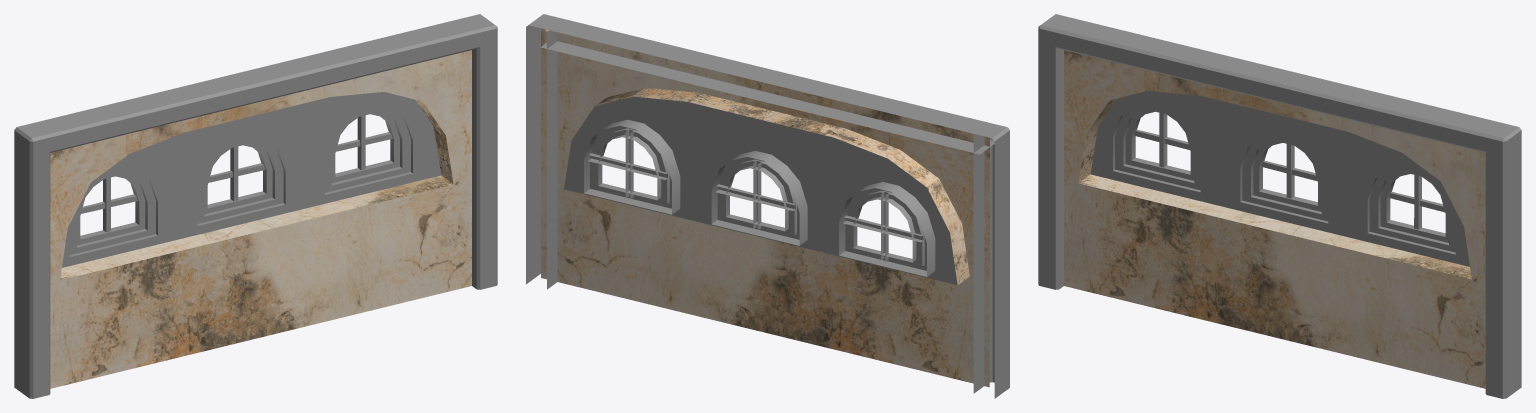
Rendered from Batiment_1_porte_fenetre_circulaire.FBX.
3 views of the same model, side by side, from view 1: azimuth 30°, elevation 25°; view 2: azimuth 150°, elevation 25°; view 3: azimuth 330°, elevation 25° (orthographic).
Visible parts, largest first — view 1: Object008; view 2: Object008; view 3: Object008.
Part boxes in pixels (x1,y1,x2,y2): Object008: (14, 14, 497, 398); Object008: (526, 14, 1009, 398); Object008: (1038, 14, 1521, 398).
Size of the model in its own units: 315 by 32.05 by 167.
Materials: 3 (1 with a texture image).
